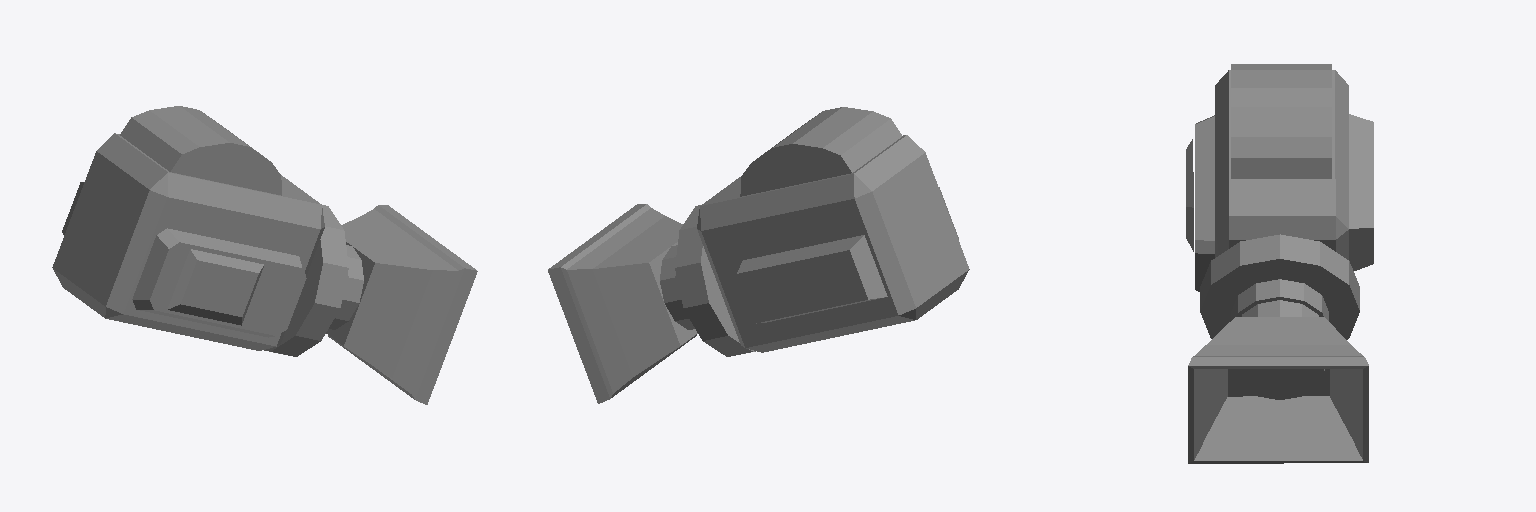
Rendered from corridor3.obj.
3 renders of one model, left to right at view 1: azimuth 30°, elevation 25°; view 2: azimuth 150°, elevation 25°; view 3: azimuth 270°, elevation 25°, orthographic.
Parts seen in each view (by area): view 1: CameraBody__CameraTitleMenu_m_Mesh.001; view 2: CameraBody__CameraTitleMenu_m_Mesh.001; view 3: CameraBody__CameraTitleMenu_m_Mesh.001.
Boxes of the visible parts, x1,y1,x2,y2 form: CameraBody__CameraTitleMenu_m_Mesh.001: [52, 106, 477, 404]; CameraBody__CameraTitleMenu_m_Mesh.001: [548, 107, 969, 403]; CameraBody__CameraTitleMenu_m_Mesh.001: [1186, 64, 1373, 463].
Size of the model in its own units: 0.4161 by 0.3308 by 0.1917.